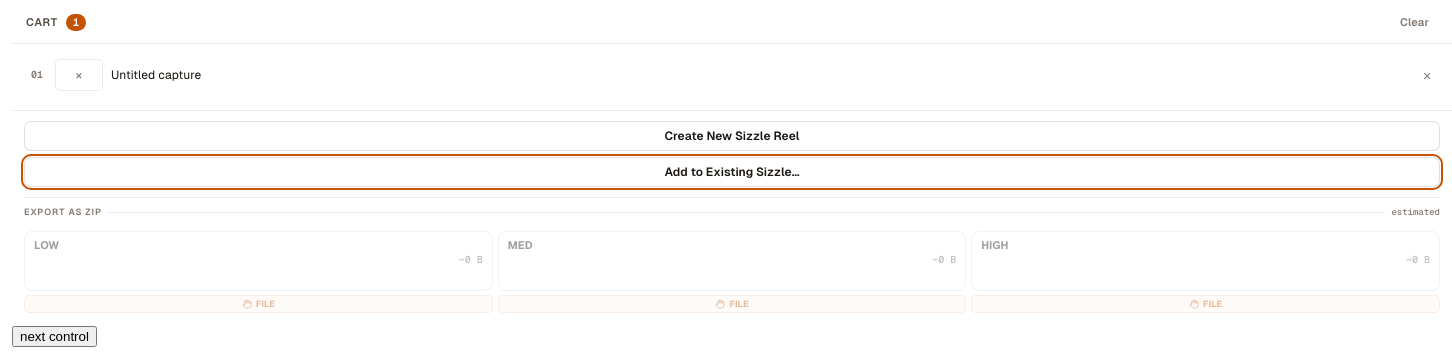
Scenario: CartPanel — Add to Existing Sizzle… picker › Escape from an option closes the picker only, and focus goes back to its button
The width and height of the screenshot is (1452, 364).
Click the button "Add to Existing Sizzle…" at {"x": 732, "y": 172}, box [24,157,1440,187]
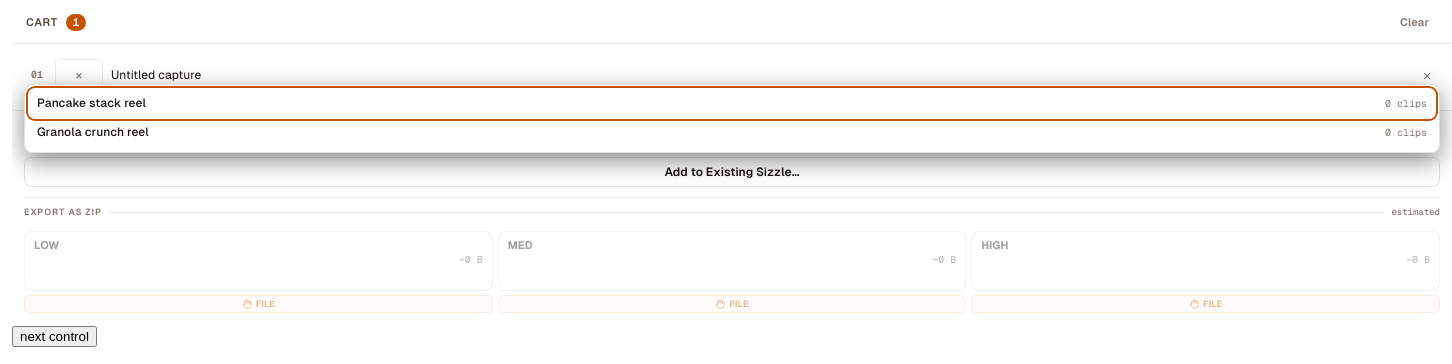
Check: the list "Pancake stack reel 0 clips Granola crunch reel 0 clips" is shown, box [24,84,1440,153]
Press Escape in the option "Pancake stack reel 0 clips", box [29,89,1435,118]
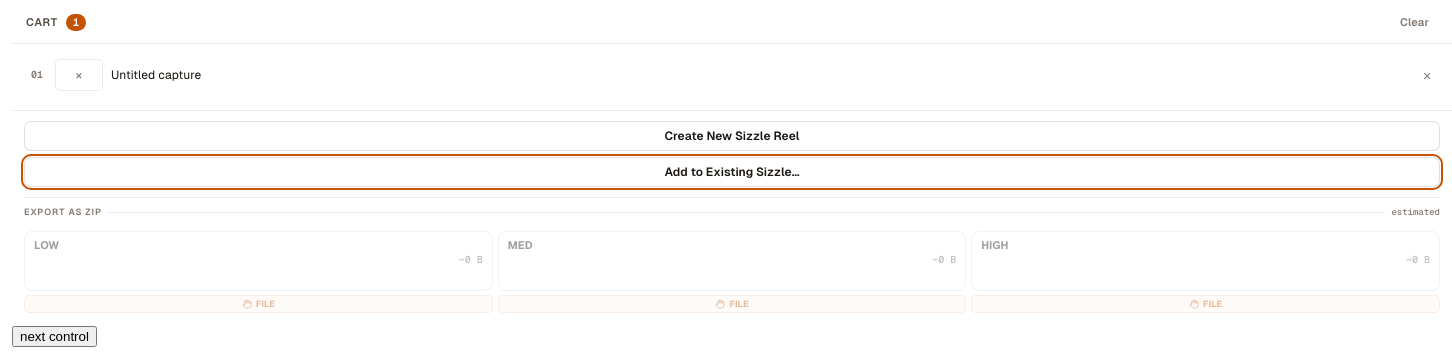
Check: the list is gone
